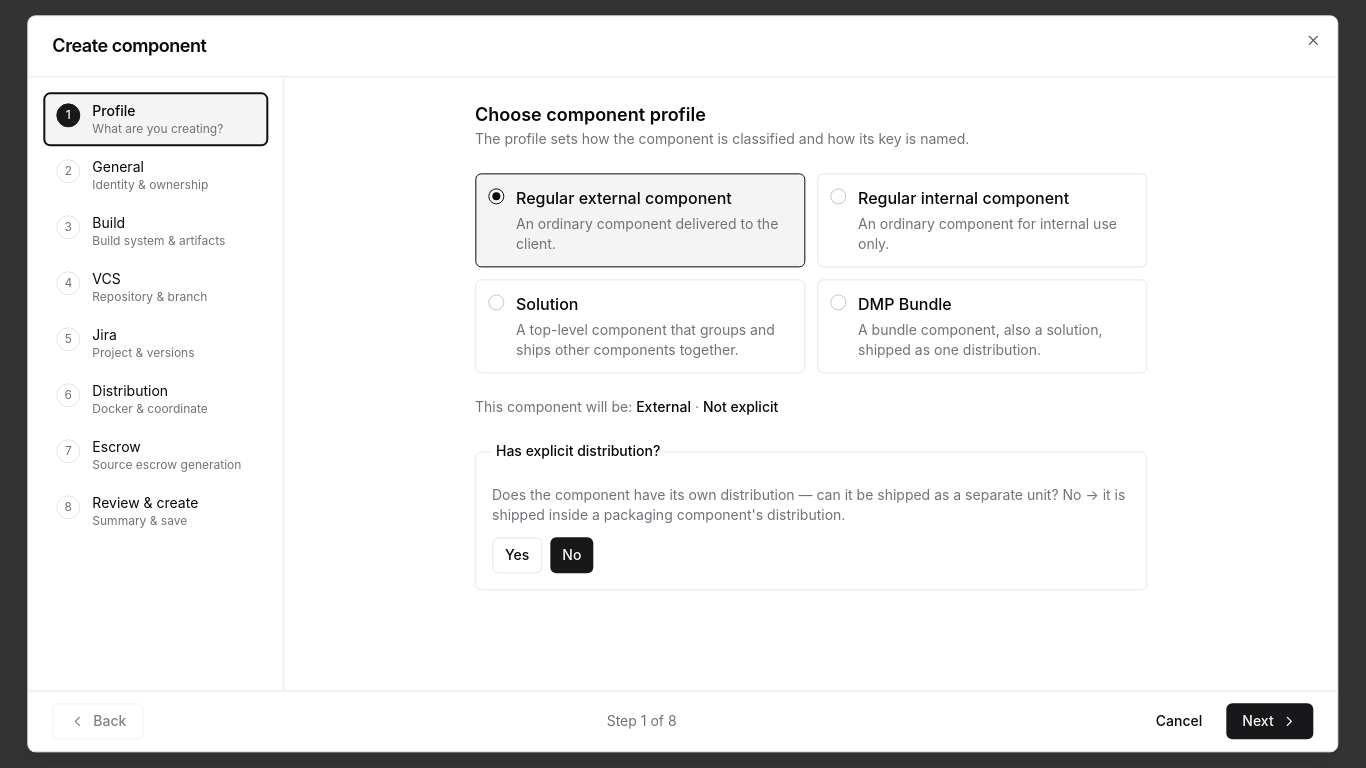
Test case: CreateComponentPage — scratch profile default › a key the Solution profile rule rejects shows the registry message
Click the radio button labelled "Solution" at point(640, 326), box [475,279,805,373]
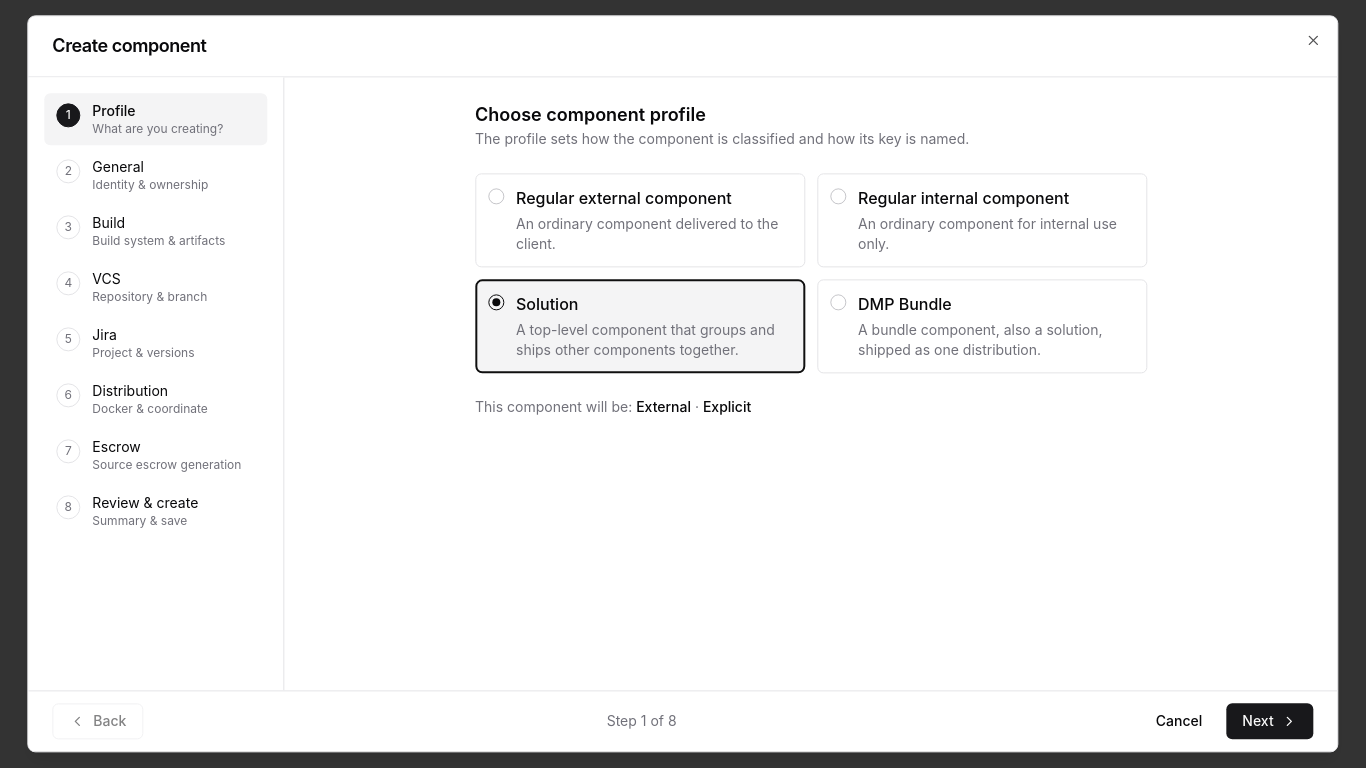
Click the button "Next" at point(1270, 722), box [1226,704,1314,740]
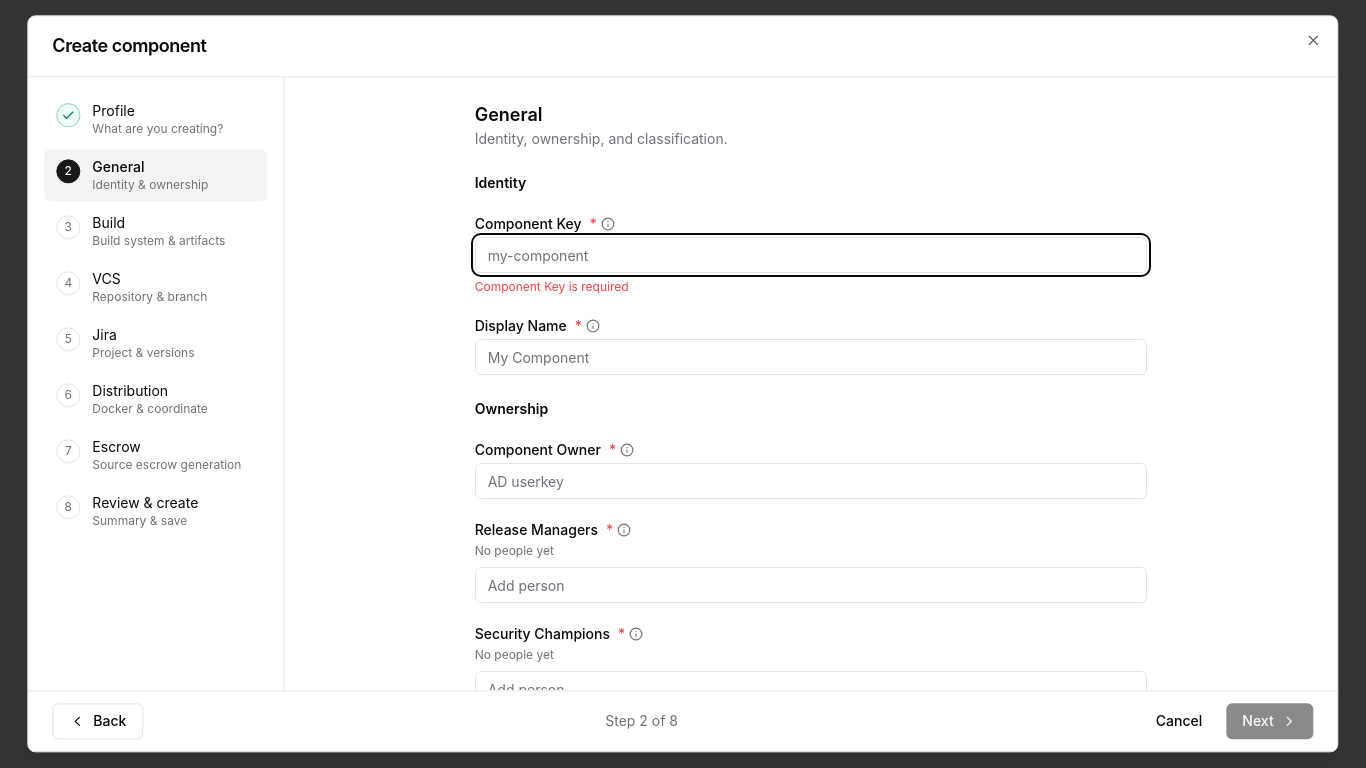
Type "widget" into the field with placeholder "my-component" at point(811, 255), box [475,237,1147,273]
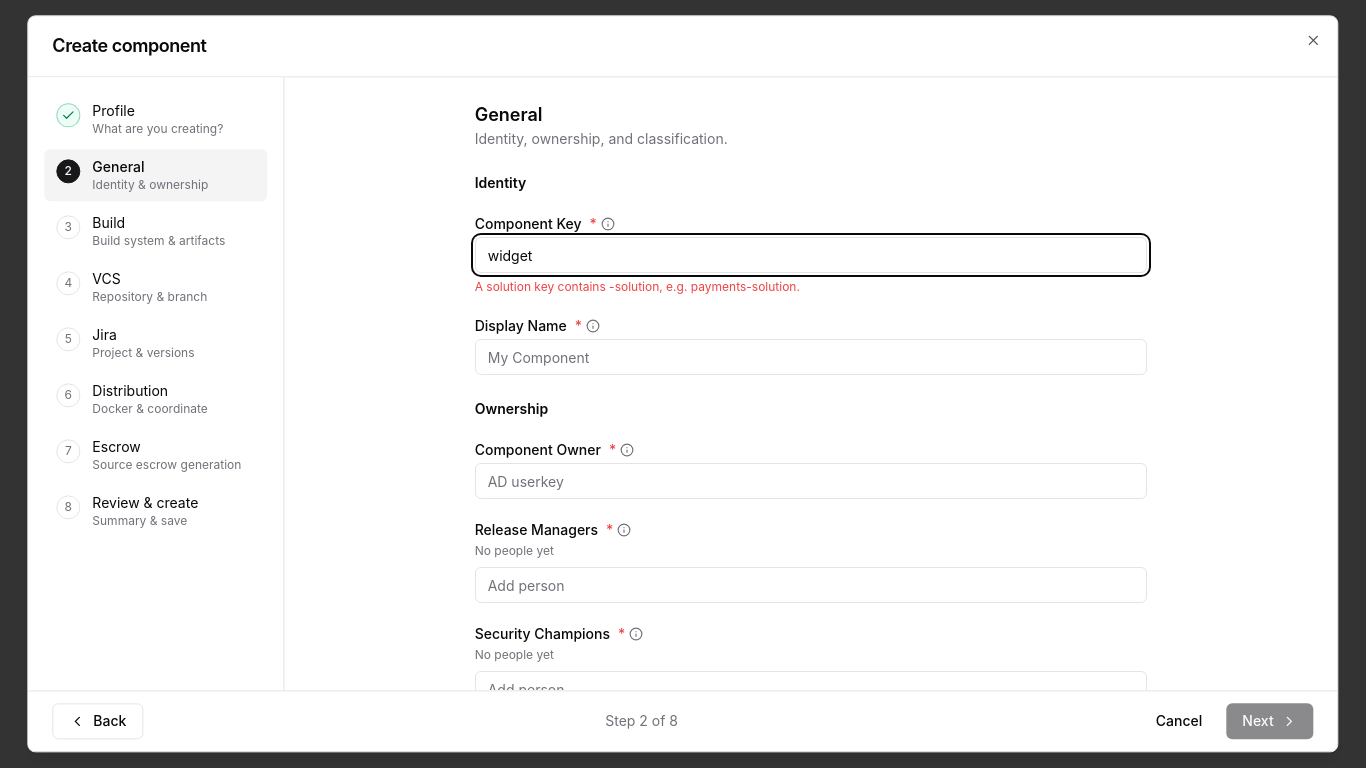
Now the text "A solution key contains -solution, e.g. payments-solution." is shown, box [475,279,800,294]
